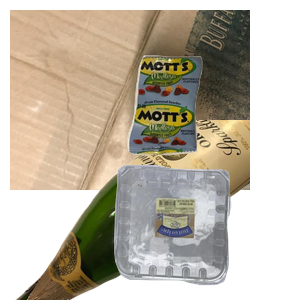cardboard: (10, 10, 250, 190)
glass: (13, 120, 253, 300)
plastic: (112, 162, 300, 300)
trash: (125, 53, 300, 201)
